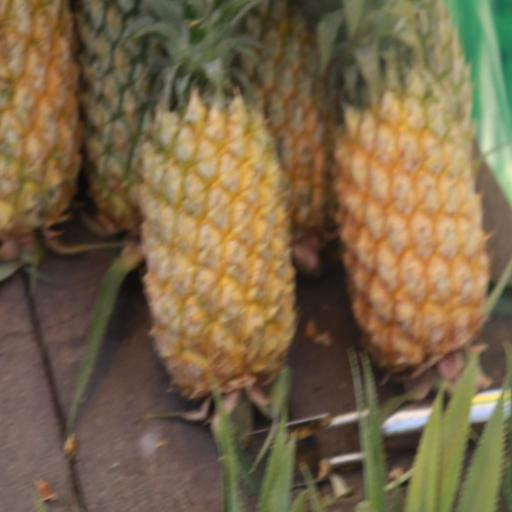Pineapple - v8 v1: (132, 0, 298, 420), (326, 0, 492, 382), (0, 0, 86, 255)
